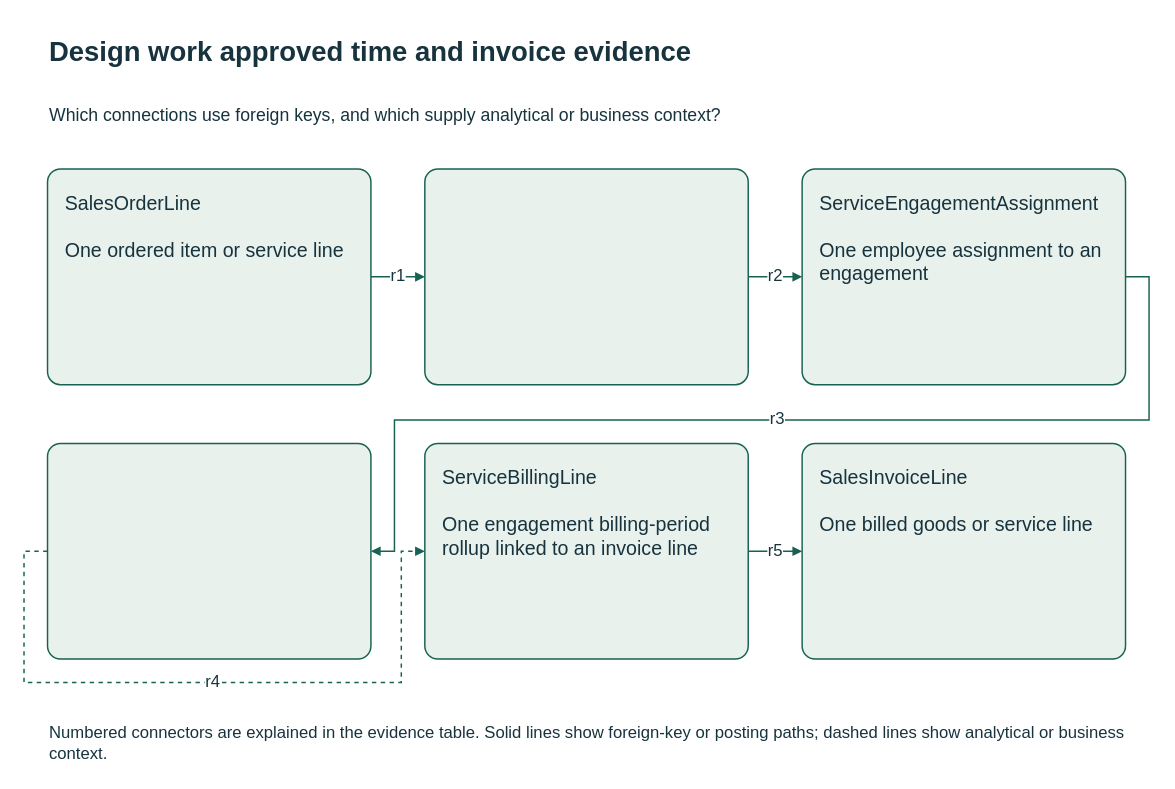
This 1175x789 diagram has some shape labels left out. The shapes that lost their labels are listed below. From the top down, each one's centre as x and y in pixels, then its label:
the point at 586,276: ServiceEngagement One engagement for a service order line
the point at 208,550: ServiceTimeEntry One employee service-time entry on a work date
